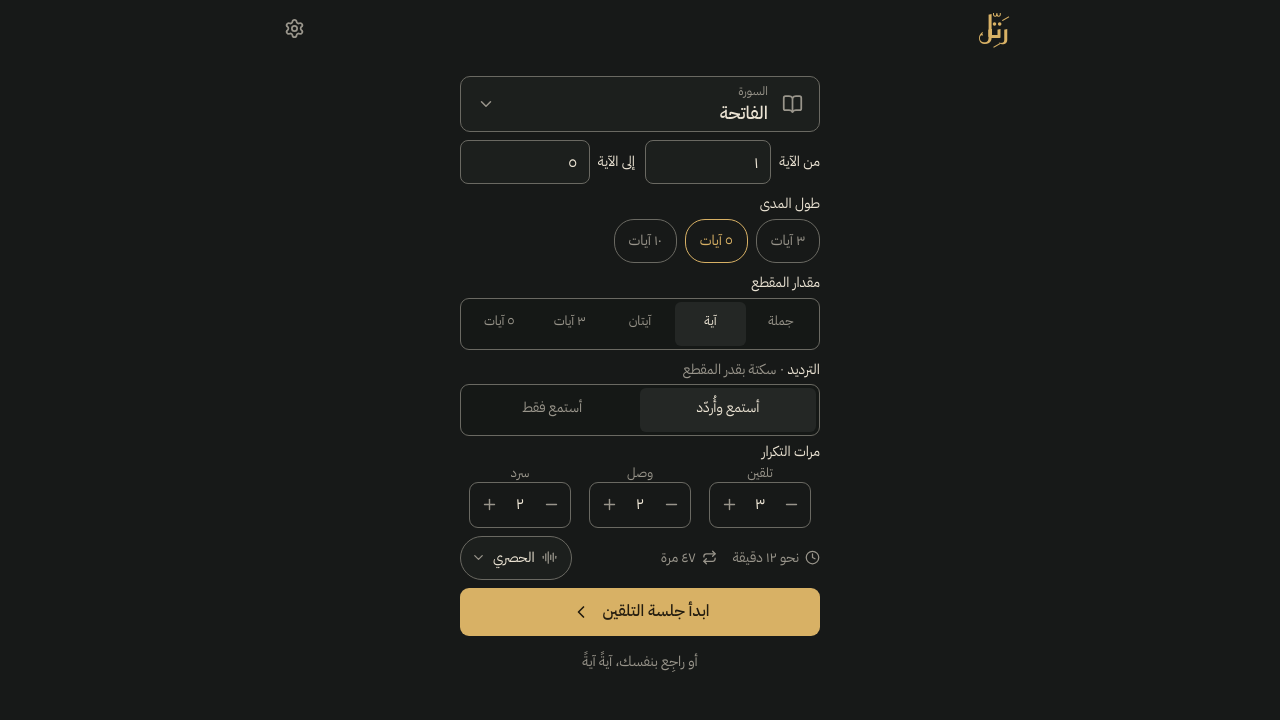
Test: catalogue and persisted state › reaches the reciter from the start screen
Click the button with aria-label "القارئ، محمود": (516, 558) 460,536 -> 572,580
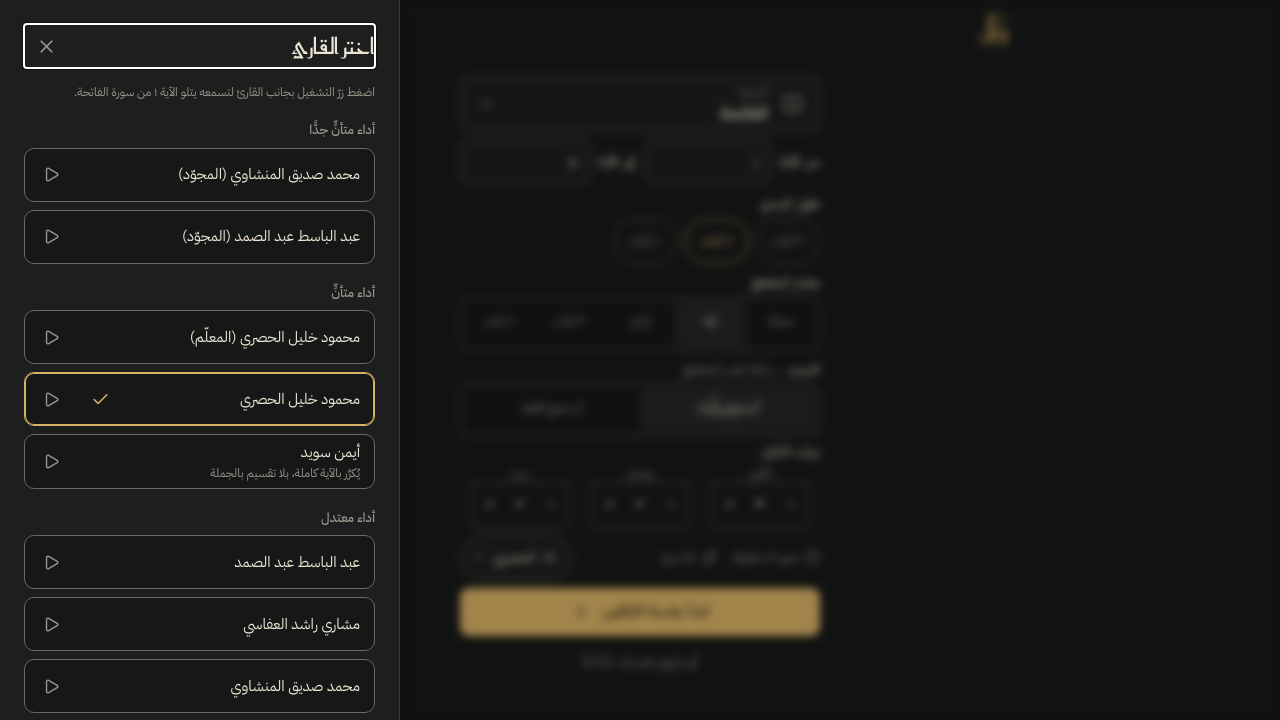
Now the button "أيمن سويد يُكرَّر بالآية كاملة، بلا تقسيم بالجملة" is shown, box 77,435 -> 374,488
// Choosing one is the whole errand, so it closes the panel.
Click the button "مشاري راشد العفاسي": (302, 624) 77,598 -> 374,650
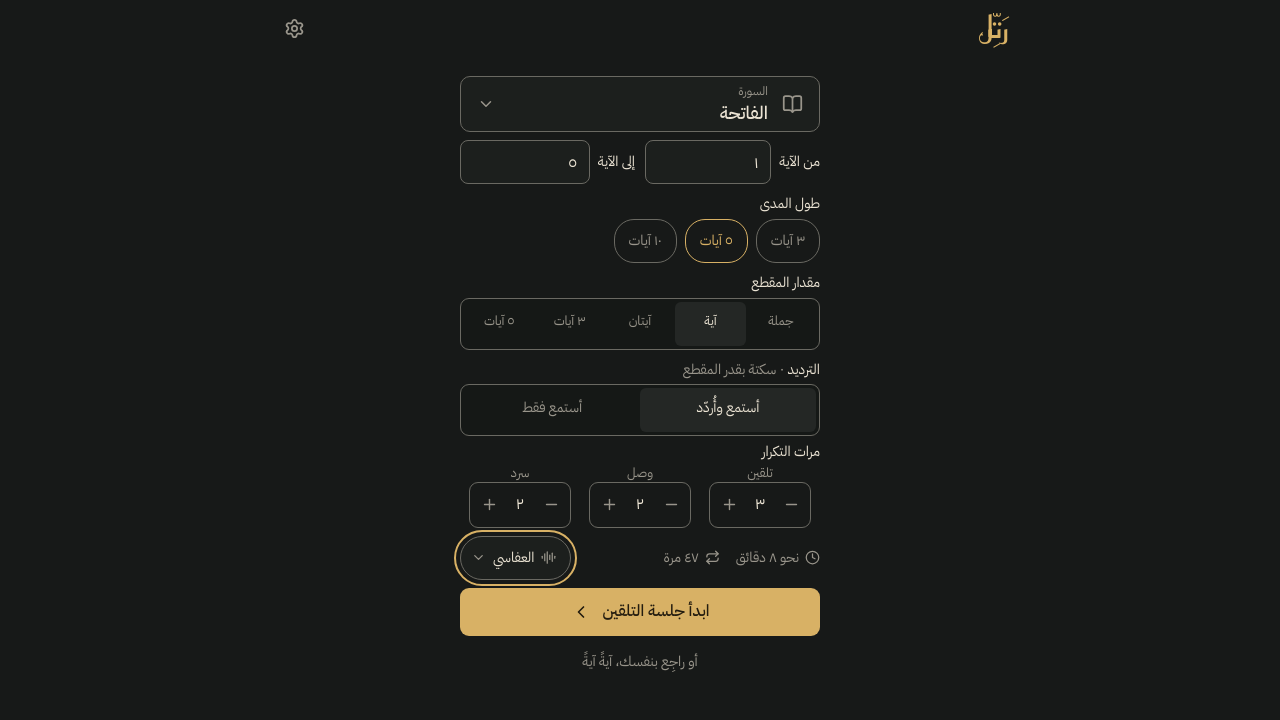
Now the heading "اختر القارئ" is gone
Now the button named "القارئ، محمود" reads "العفاسي", box 460,536 -> 572,580
